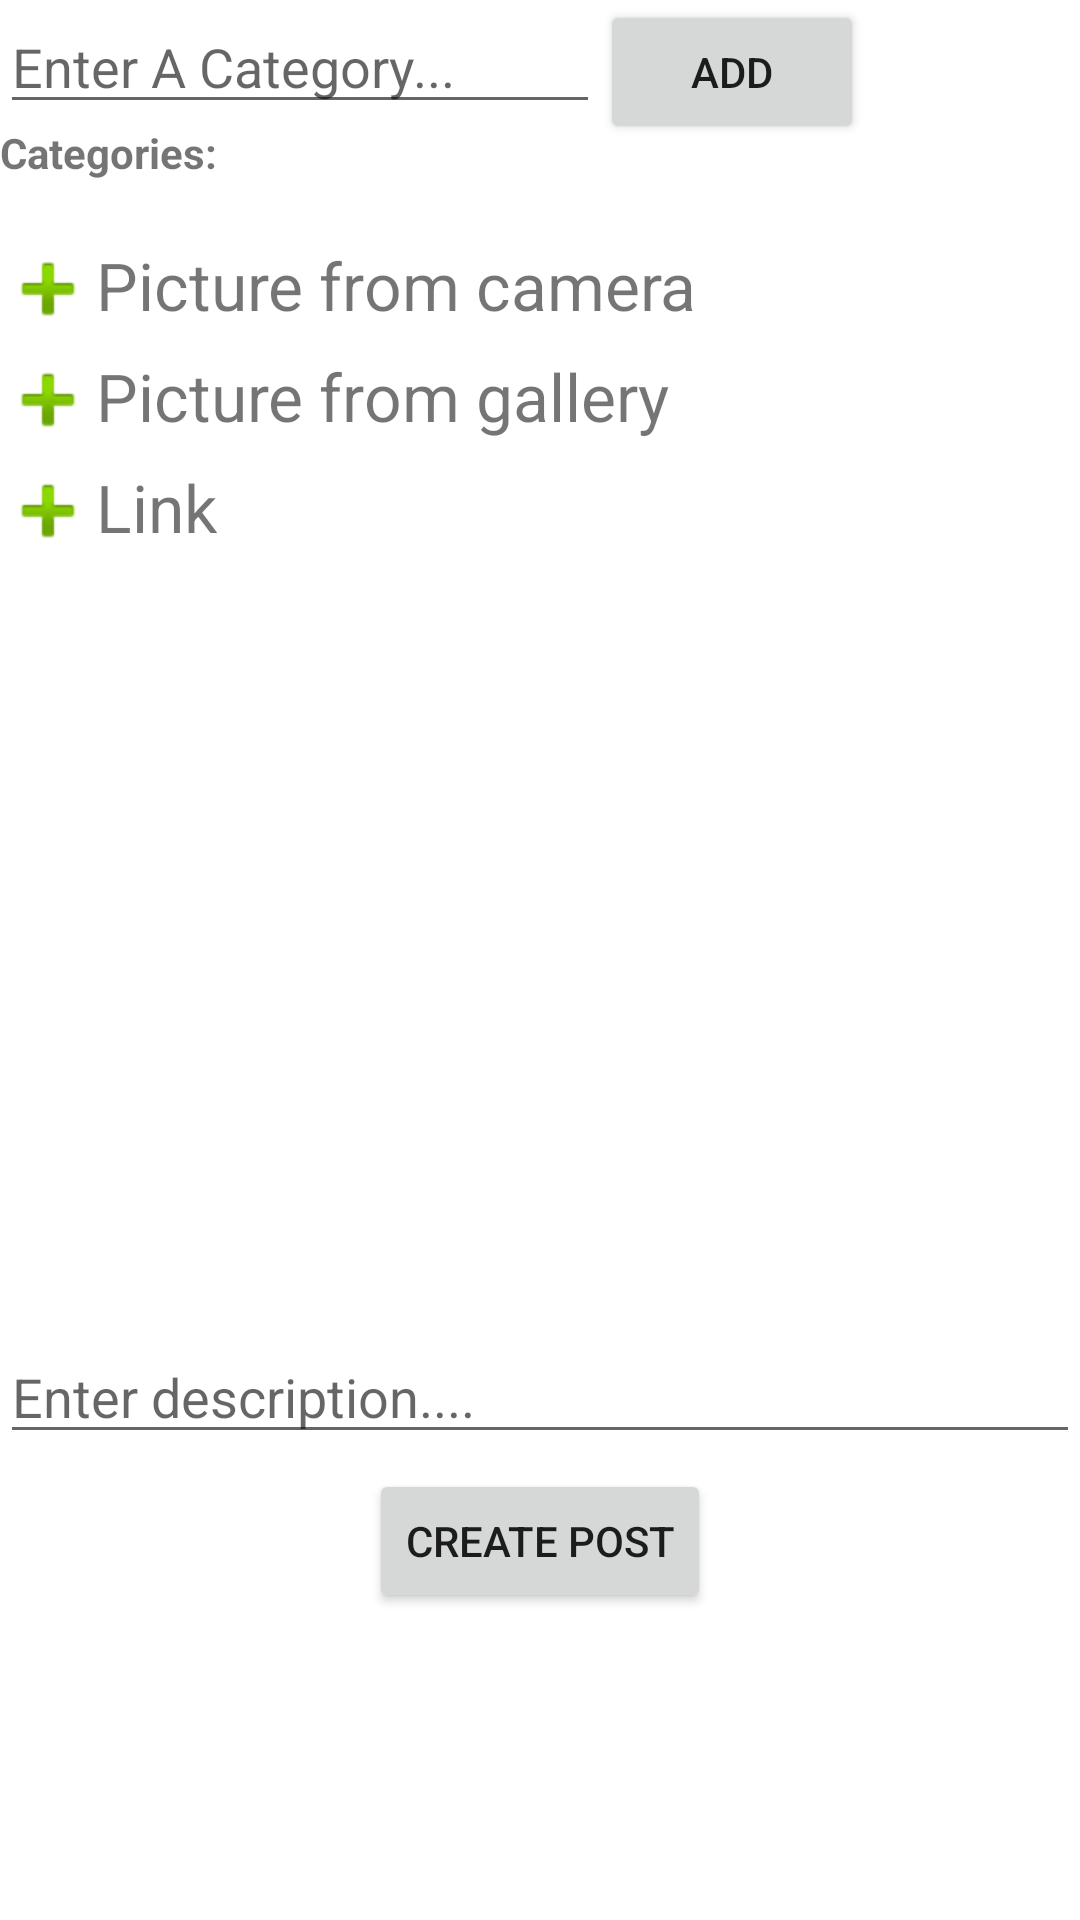

Icon bounding boxes for this 1080 × 1920 phone screenshot, format bbox(x1, y1, x2, y2):
add: bbox(21, 262, 75, 316), bbox(21, 373, 75, 427), bbox(21, 484, 75, 538)
